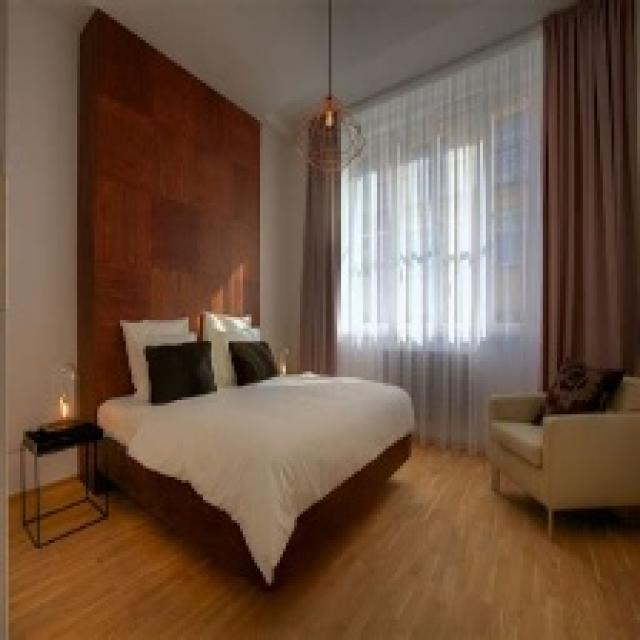Bed: (94, 368, 414, 586)
